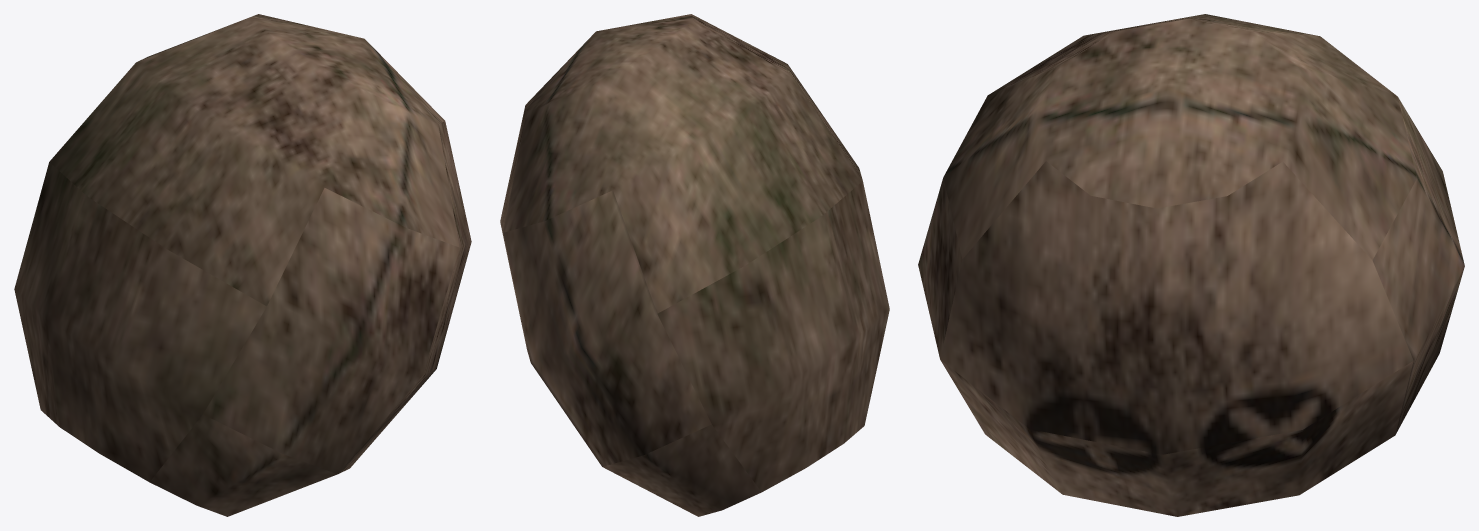
Rendered from head.gltf.
3 views of the same model, side by side, from view 1: azimuth 30°, elevation 25°; view 2: azimuth 150°, elevation 25°; view 3: azimuth 270°, elevation 25° (orthographic). The views are drawn at different scales.
Parts seen in each view (by area): view 1: doll_Hanging Doll_0.002; view 2: doll_Hanging Doll_0.002; view 3: doll_Hanging Doll_0.002.
Part boxes in pixels (x1,y1,x2,y2): doll_Hanging Doll_0.002: [14, 14, 471, 516]; doll_Hanging Doll_0.002: [500, 14, 889, 516]; doll_Hanging Doll_0.002: [918, 14, 1464, 516].
Size of the model in its own units: 75.88 by 91.29 by 86.87.
1 material, 1 textured.
